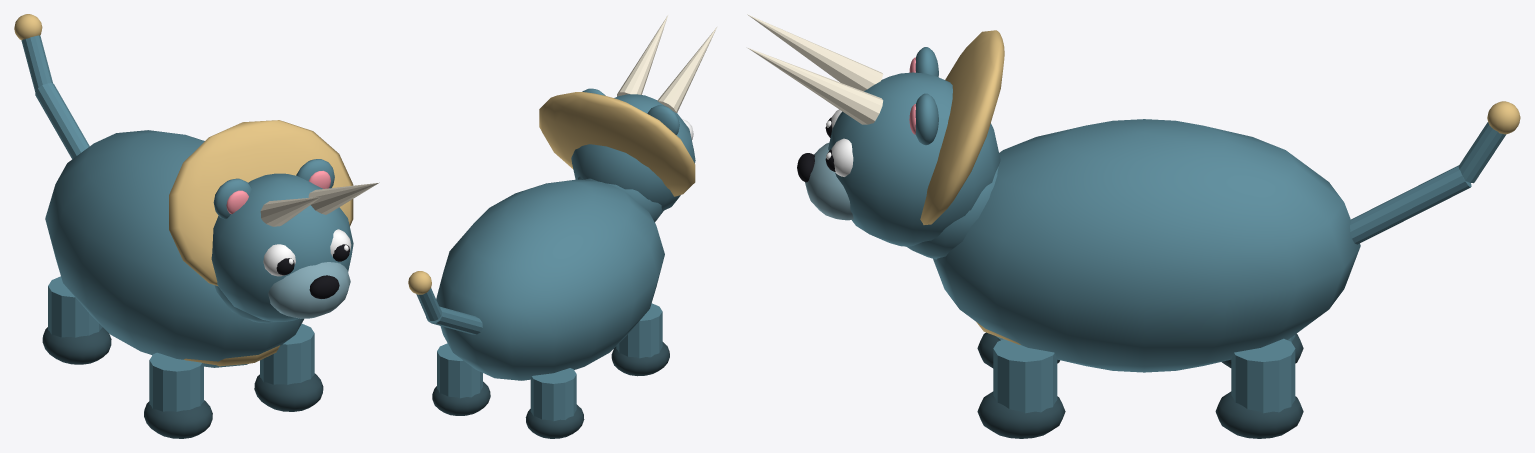
The picture shows the model from 3 angles, left to right: view 1: azimuth 30°, elevation 25°; view 2: azimuth 150°, elevation 25°; view 3: azimuth 270°, elevation 25°; orthographic projection. The views are drawn at different scales.
Visible parts, largest first — view 1: Triceratops; view 2: Triceratops; view 3: Triceratops.
Part boxes in pixels (x1=…): Triceratops: x1=14, y1=14, x2=379, y2=438; Triceratops: x1=408, y1=15, x2=717, y2=438; Triceratops: x1=747, y1=14, x2=1520, y2=438.
Bounding box in the file's own units: 2.12 × 3.19 × 6.04.
Materials: 1 (1 with a texture image).
